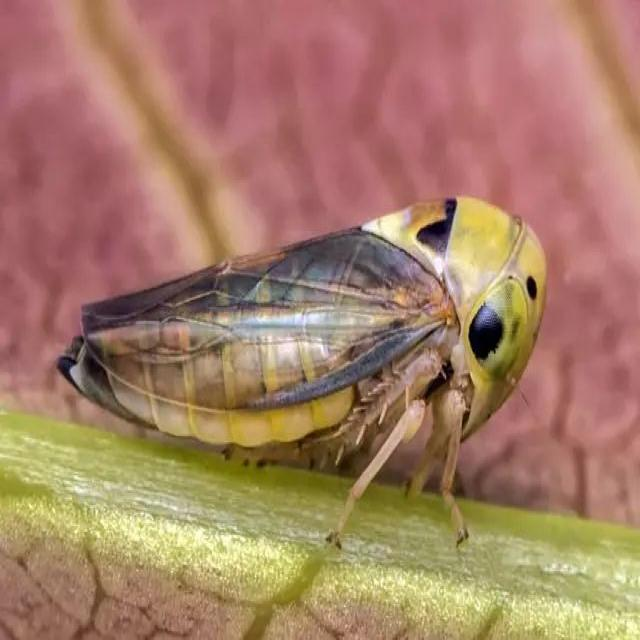Yechan: (66, 182, 538, 546)
